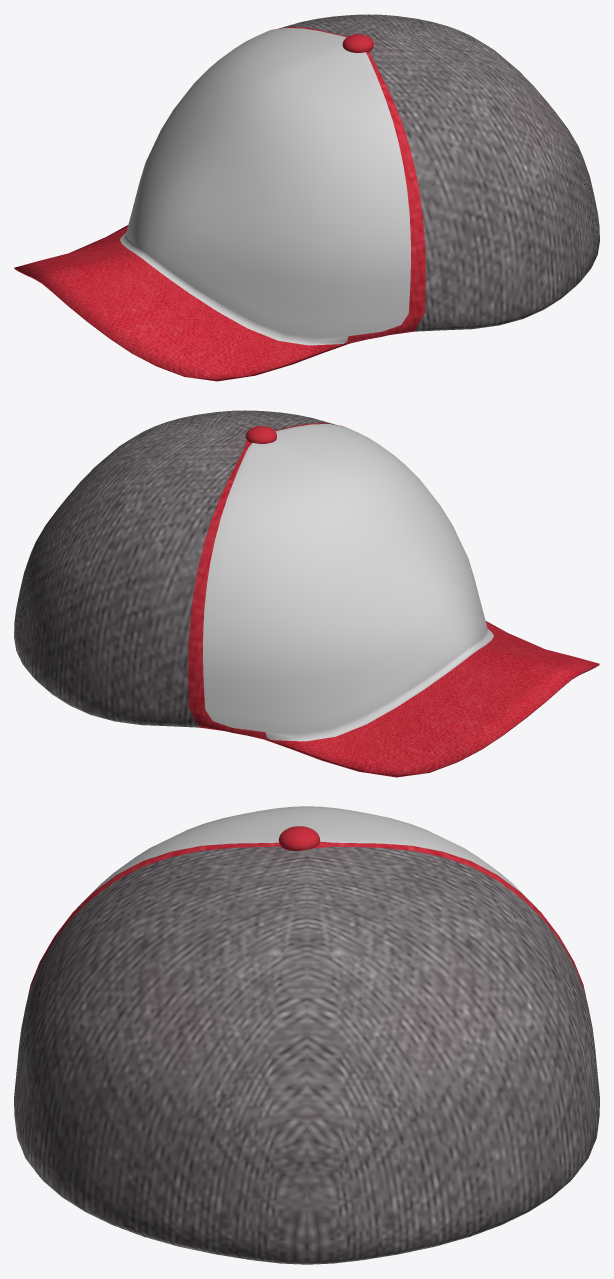
File: ballcap.fbx
3 views of the same model, one above another, from view 1: azimuth 30°, elevation 25°; view 2: azimuth 150°, elevation 25°; view 3: azimuth 270°, elevation 25° (orthographic). The views are drawn at different scales.
Parts seen in each view (by area): view 1: Cap__exterior_, Sphere_001; view 2: Cap__exterior_; view 3: Cap__exterior_, Sphere_001.
Part boxes in pixels (x1,y1,x2,y2): Cap__exterior_: (14, 14, 599, 381); Sphere_001: (342, 34, 373, 52); Cap__exterior_: (14, 410, 599, 777); Cap__exterior_: (14, 806, 599, 1264); Sphere_001: (278, 826, 319, 850).
Bounding box in the file's own units: 1.54 × 0.6378 × 1.1.
